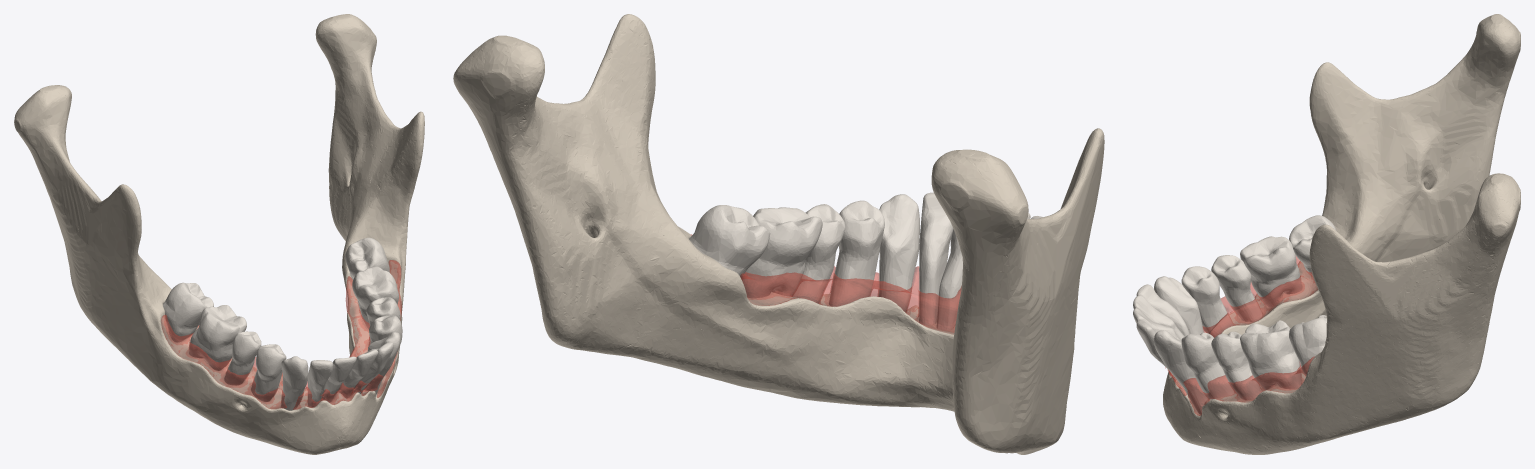
Rendered from stage-3.glb.
The picture shows the model from 3 angles, left to right: view 1: azimuth 30°, elevation 25°; view 2: azimuth 150°, elevation 25°; view 3: azimuth 270°, elevation 25°; orthographic projection. The views are drawn at different scales.
Visible parts, largest first — view 1: bone, teeth, lost; view 2: bone, teeth, lost; view 3: bone, teeth, lost.
Boxes of the visible parts, x1,y1,x2,y2 form: bone: [14, 14, 424, 454]; teeth: [163, 237, 402, 410]; lost: [161, 260, 401, 409]; bone: [453, 14, 1104, 454]; teeth: [689, 192, 1042, 329]; lost: [690, 234, 961, 334]; bone: [1163, 14, 1520, 454]; teeth: [1133, 215, 1336, 413]; lost: [1165, 256, 1317, 415].
Size of the model in its own units: 0.1033 by 0.082 by 0.0867.
